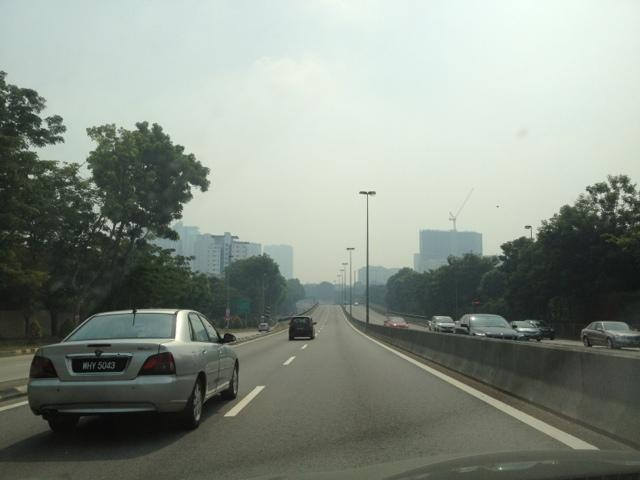car: (28, 306, 240, 430), (454, 313, 518, 347), (580, 321, 640, 350), (507, 320, 542, 341), (521, 320, 556, 340), (288, 316, 317, 340), (430, 315, 456, 336), (383, 316, 409, 333), (258, 323, 270, 333)
